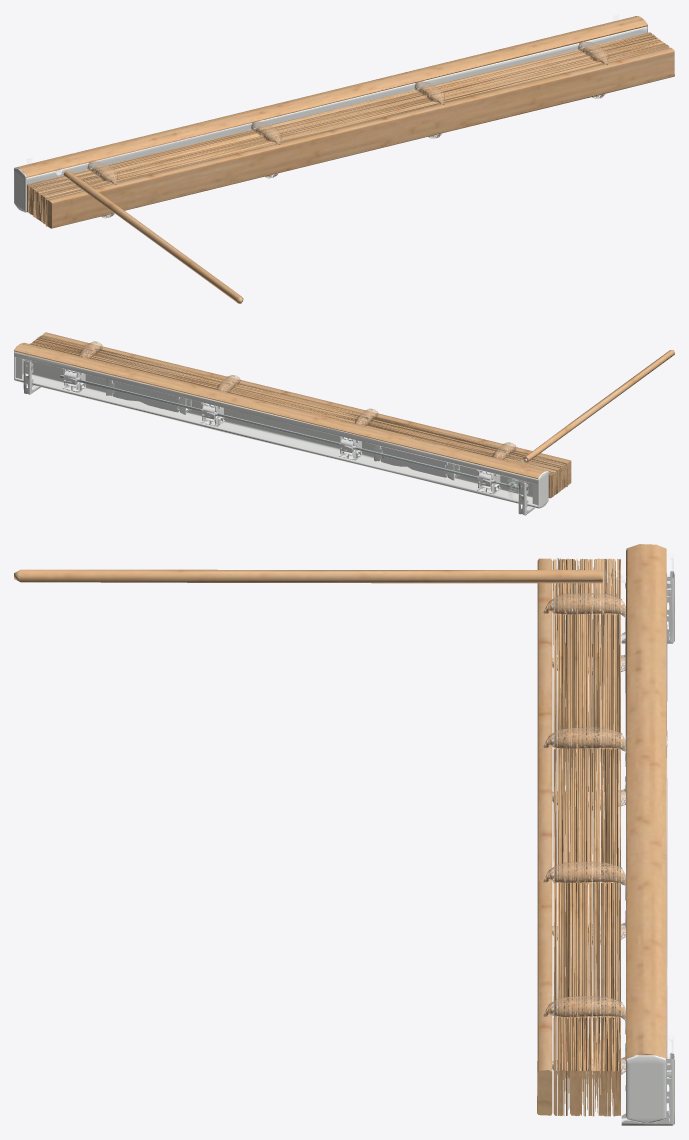
The model's file is vecklarfly_zaluzje_40616299.glb.
3 renders of one model, top to bottom at view 1: azimuth 30°, elevation 25°; view 2: azimuth 150°, elevation 25°; view 3: azimuth 270°, elevation 25°, orthographic. The views are drawn at different scales.
Parts seen in each view (by area): view 1: vecklarfly_zaluzje_40616299; view 2: vecklarfly_zaluzje_40616299; view 3: vecklarfly_zaluzje_40616299.
Part boxes in pixels (left/top/right/bottom): vecklarfly_zaluzje_40616299: left=14, top=16, right=674, bottom=303; vecklarfly_zaluzje_40616299: left=14, top=332, right=674, bottom=515; vecklarfly_zaluzje_40616299: left=14, top=544, right=674, bottom=1125.
Bounding box in the file's own units: 1.2 × 0.0952 × 0.6552.
2 materials, 2 textured.
